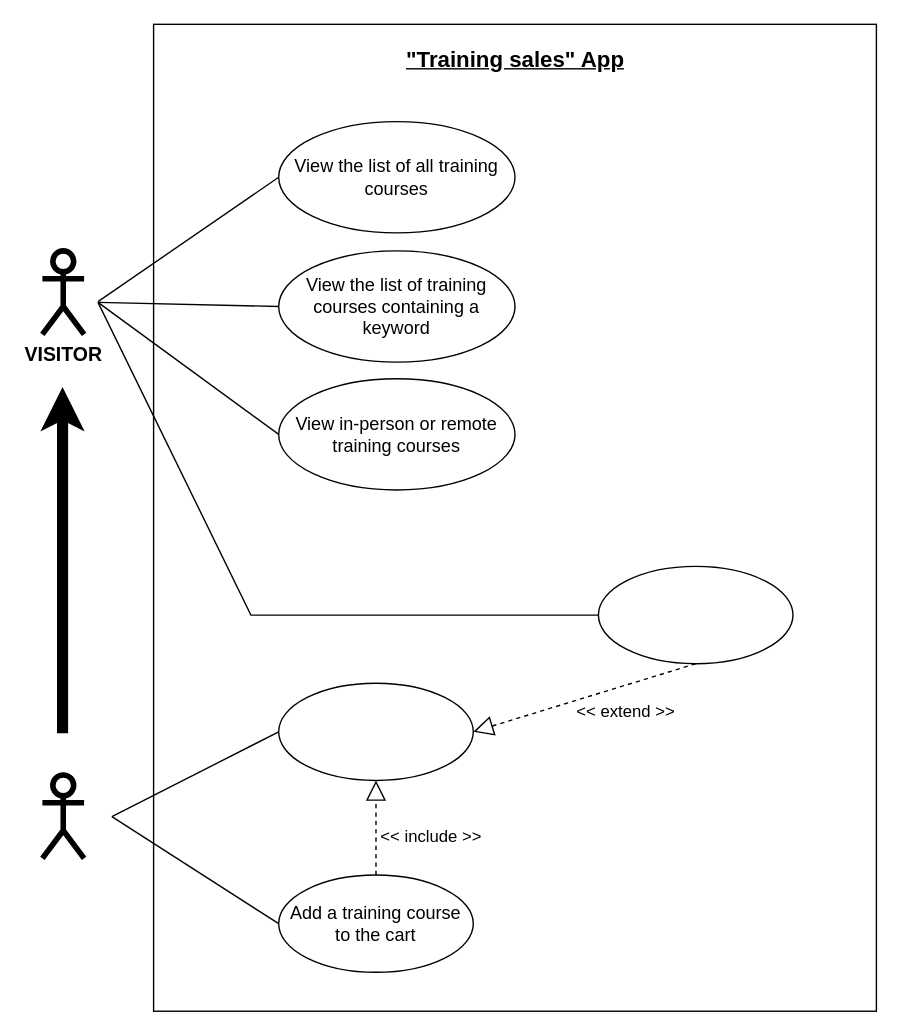
Some shapes in this 901 by 1036 pixel diagram are drawn without their labels. The shapes that lost their labels are listed below. From the top down, each one's centre as x and y in pixels, then its label:
the point at 695,614: Log in
the point at 375,731: Place an order
the point at 62,815: USER
